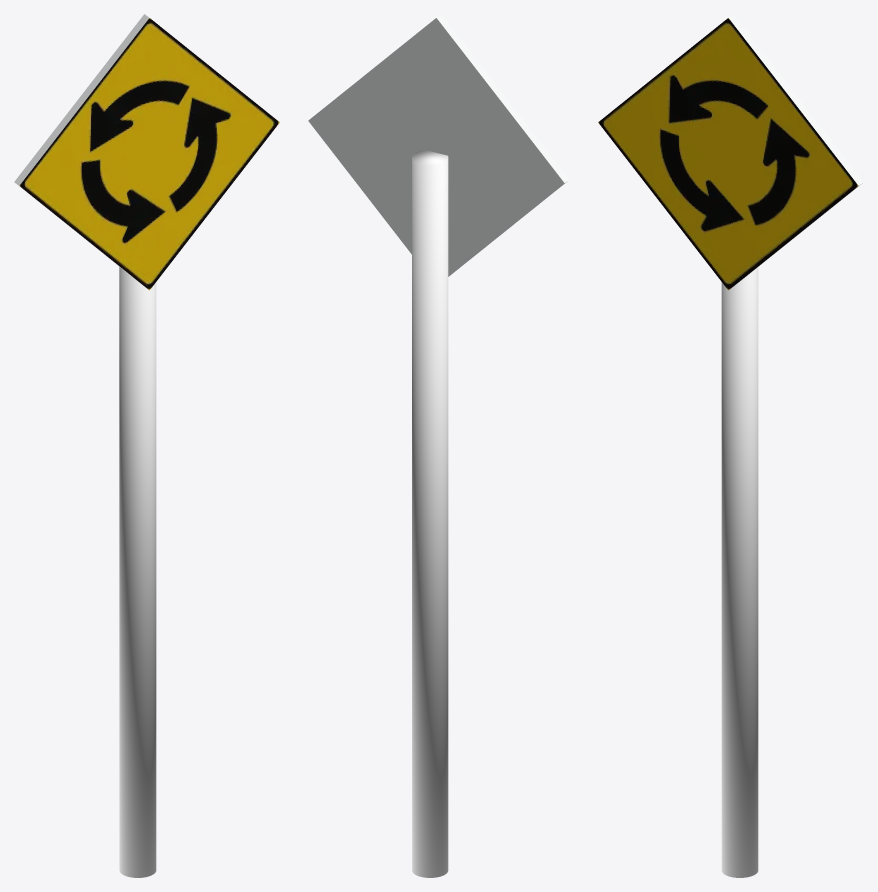
Rendered from ROTONDA.fbx.
3 renders of one model, left to right at view 1: azimuth 30°, elevation 25°; view 2: azimuth 150°, elevation 25°; view 3: azimuth 330°, elevation 25°, orthographic.
Parts seen in each view (by area): view 1: Cylinder.005; view 2: Cylinder.005; view 3: Cylinder.005.
Boxes of the visible parts, x1,y1,x2,y2 form: Cylinder.005: (14, 14, 279, 877); Cylinder.005: (308, 14, 569, 877); Cylinder.005: (598, 14, 863, 877).
Size of the model in its own units: 81.45 by 257 by 11.32.
Materials: 3 (3 with a texture image).
